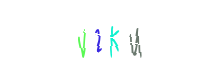2: (69, 0, 149, 80)
K: (73, 0, 153, 80)
U: (73, 0, 153, 80)
V: (58, 0, 138, 80)
